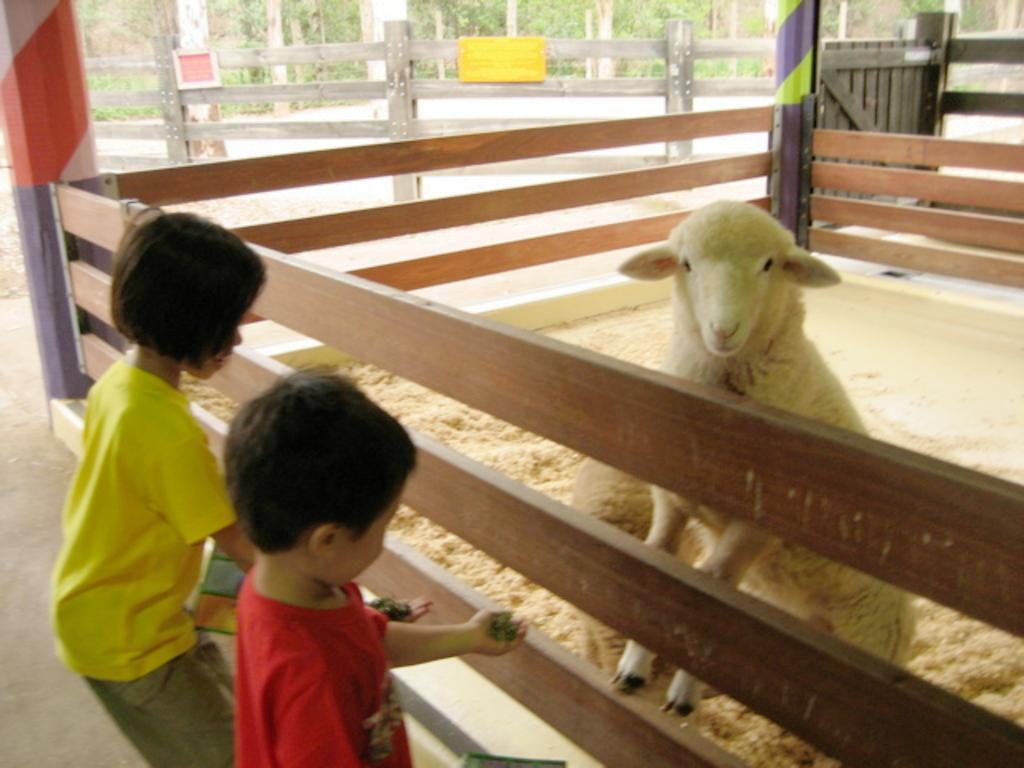Sheep: (603, 192, 917, 720)
